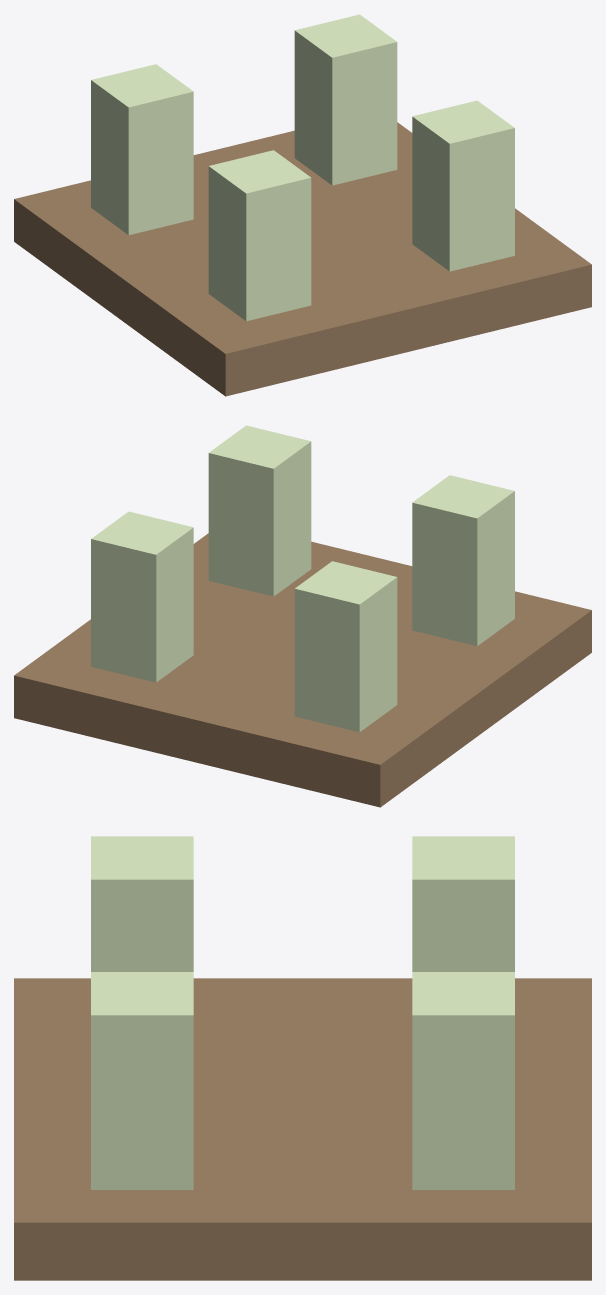
Rendered from Prop_DS_Crop_Groat_S2_V3.glb.
The picture shows the model from 3 angles, top to bottom: view 1: azimuth 30°, elevation 25°; view 2: azimuth 150°, elevation 25°; view 3: azimuth 270°, elevation 25°; orthographic projection. The views are drawn at different scales.
Visible parts, largest first — view 1: Cube, Cube.004, Cube.001, Cube.002, Cube.003; view 2: Cube, Cube.003, Cube.002, Cube.001, Cube.004; view 3: Cube, Cube.003, Cube.004, Cube.001, Cube.002.
Part boxes in pixels (x1,y1,x2,y2): Cube: (14,122,591,396); Cube.004: (294,14,397,185); Cube.001: (208,150,311,321); Cube.002: (91,64,193,235); Cube.003: (412,100,514,271); Cube: (14,533,591,807); Cube.003: (208,425,311,596); Cube.002: (294,561,397,732); Cube.001: (412,475,514,646); Cube.004: (91,511,193,682); Cube: (14,978,591,1280); Cube.003: (91,972,193,1189); Cube.004: (412,972,514,1189); Cube.001: (91,836,193,971); Cube.002: (412,836,514,971).
Size of the model in its own units: 0.9 by 0.4 by 0.9.
